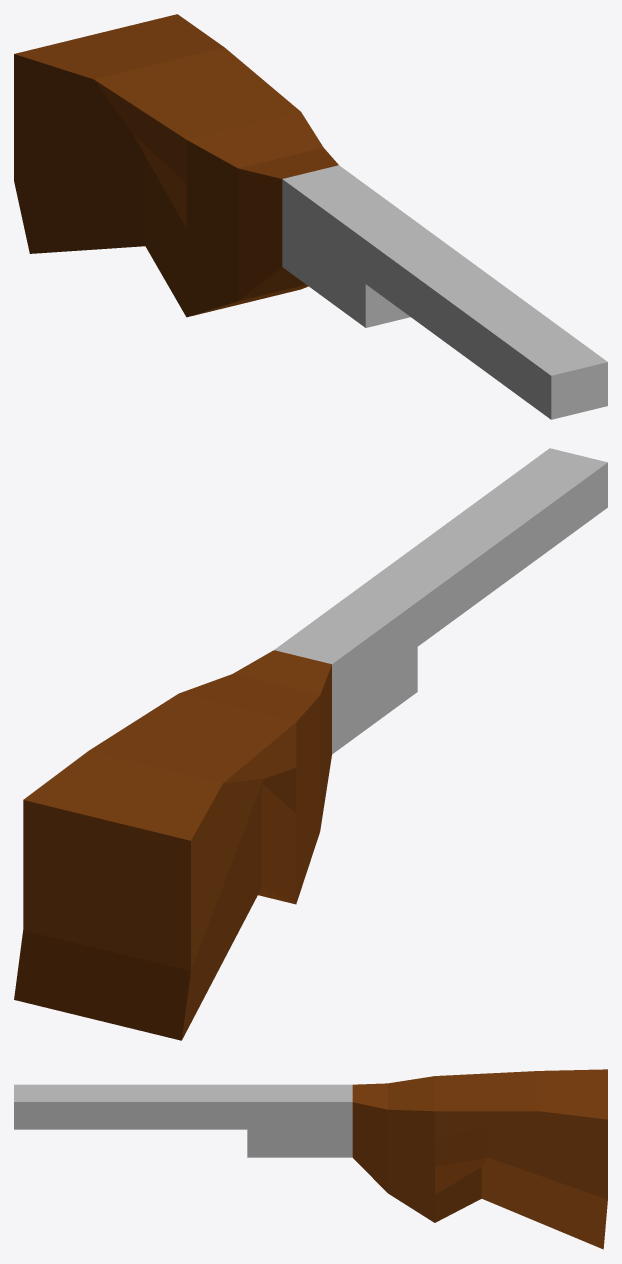
Rendered from shotgunmegar.fbx.
3 renders of one model, top to bottom at view 1: azimuth 30°, elevation 25°; view 2: azimuth 150°, elevation 25°; view 3: azimuth 270°, elevation 25°, orthographic. The views are drawn at different scales.
Visible parts, largest first — view 1: Cube; view 2: Cube; view 3: Cube.
Boxes of the visible parts, left/top/right/bottom form: Cube: left=14, top=14, right=607, bottom=419; Cube: left=14, top=448, right=607, bottom=1040; Cube: left=14, top=1069, right=607, bottom=1249.
Size of the model in its own units: 145 by 165 by 674.
